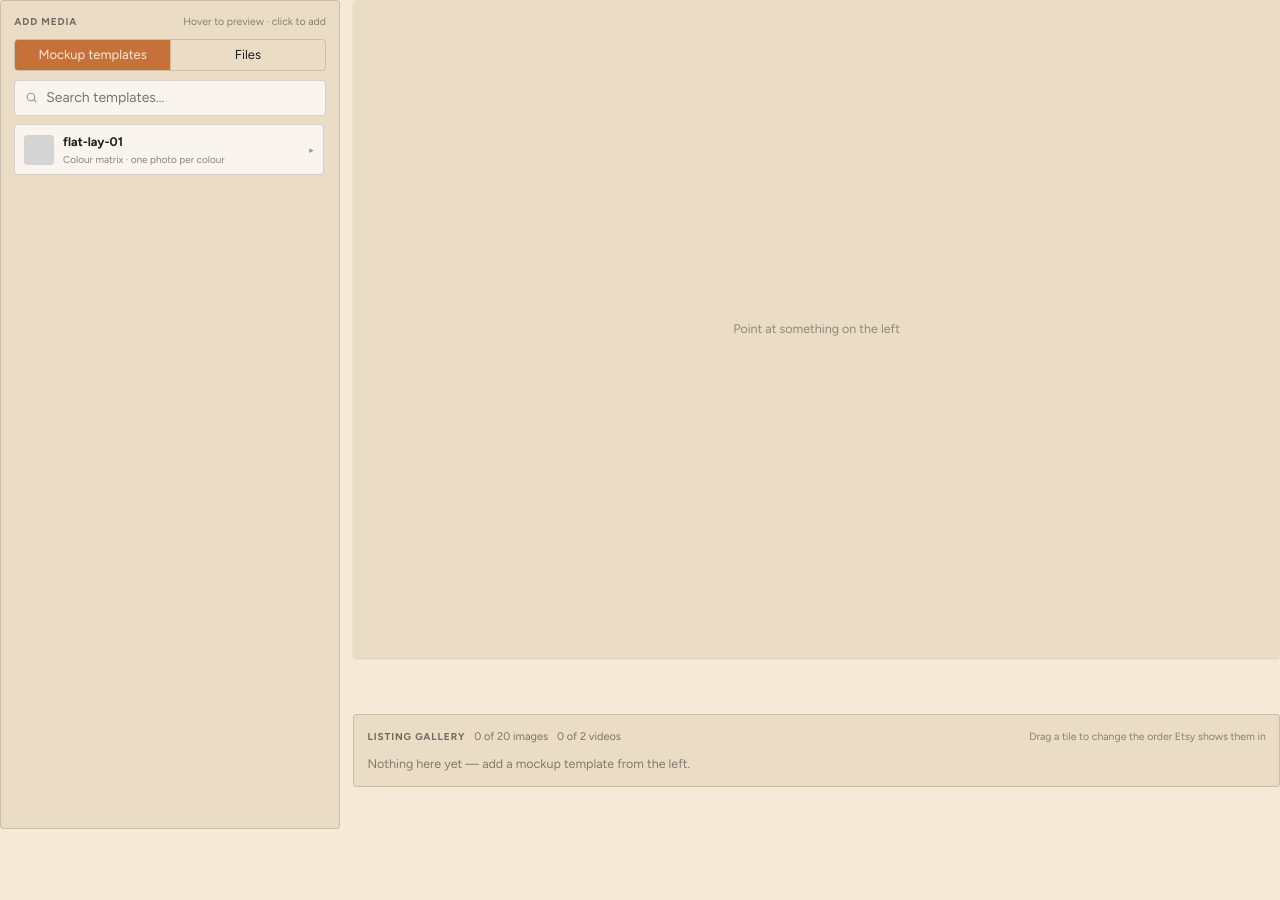
it: ImagesTab before any colours are chosen › says to pick colours first rather than offering a colourless entry
Click the text "flat-lay-01": (93, 142) 63,134 -> 123,149
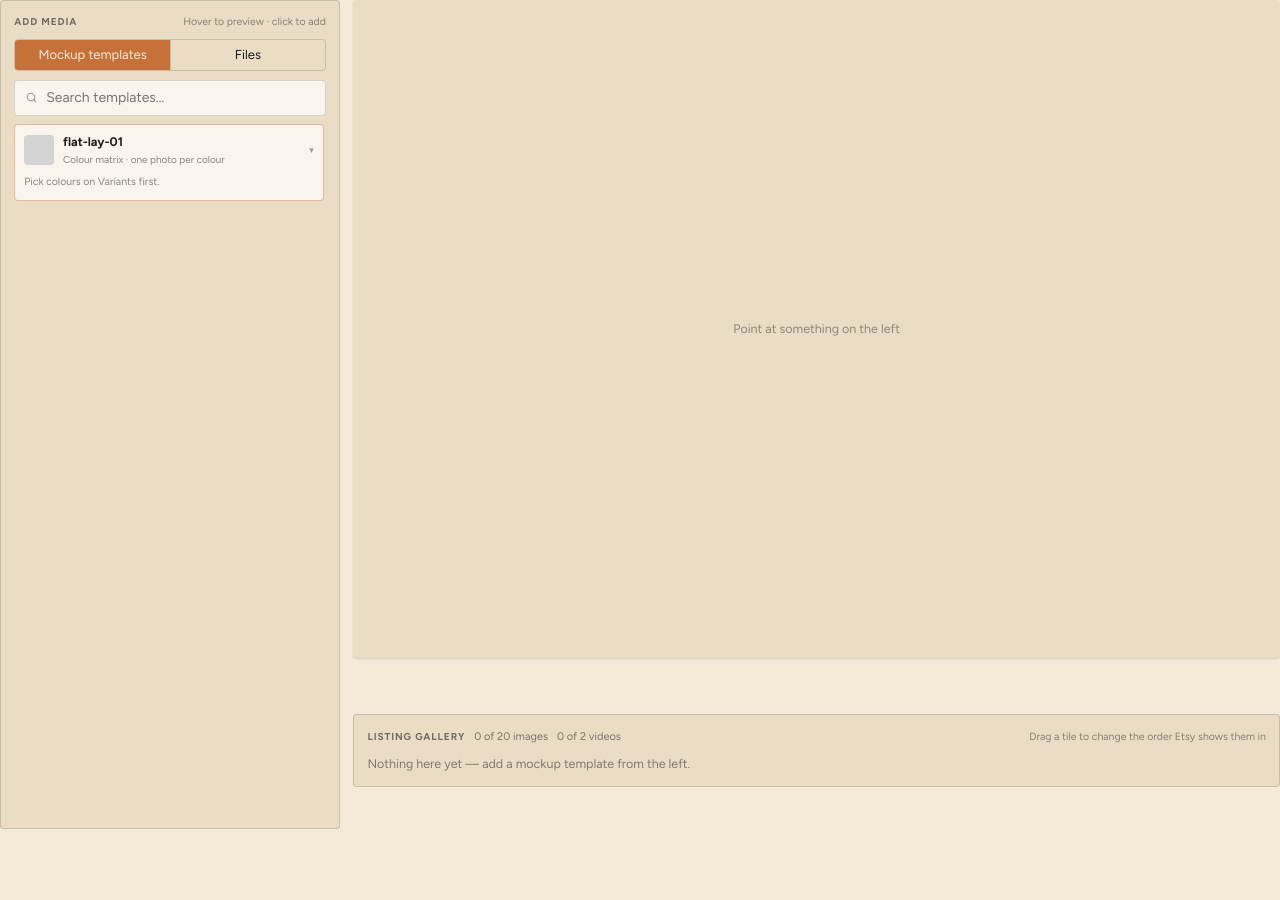
Check: the text "Pick colours on Variants first." is shown, box 24,174 -> 160,191
